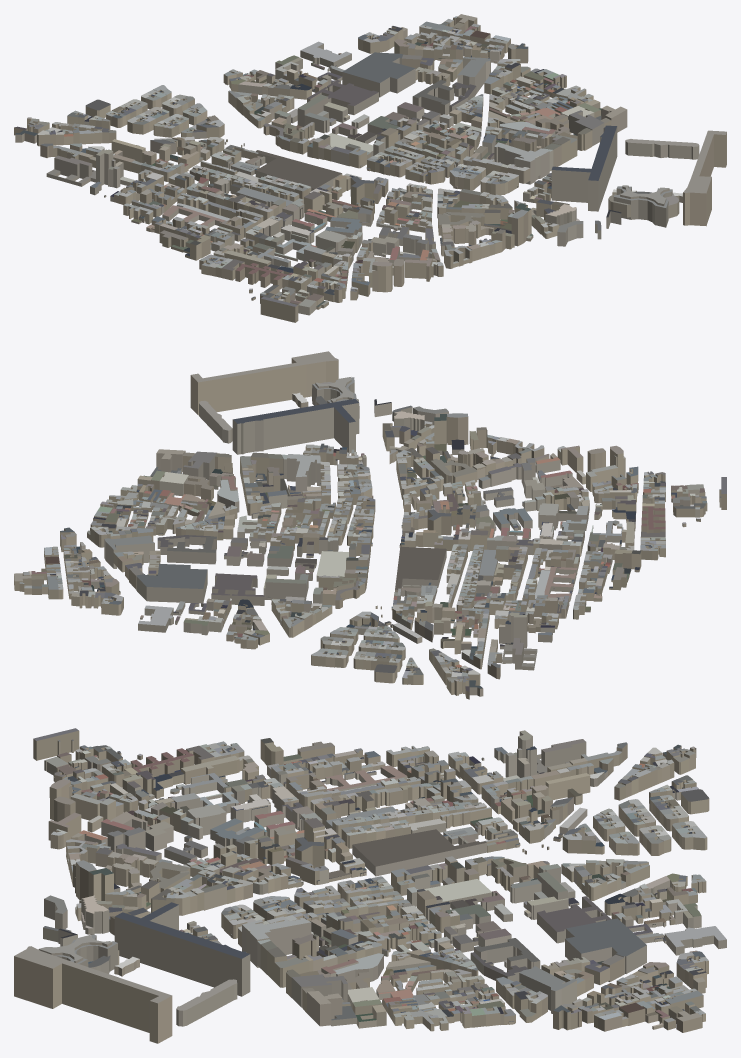
The picture shows the model from 3 angles, top to bottom: view 1: azimuth 30°, elevation 25°; view 2: azimuth 150°, elevation 25°; view 3: azimuth 270°, elevation 25°; orthographic projection. The views are drawn at different scales.
Parts seen in each view (by area): view 1: tuile; view 2: tuile; view 3: tuile.
Boxes of the visible parts, left/top/right/bottom form: tuile: left=14, top=14, right=726, bottom=322; tuile: left=14, top=351, right=726, bottom=699; tuile: left=14, top=728, right=726, bottom=1043.
Bounding box in the file's own units: 1127 × 96.87 × 1104.
